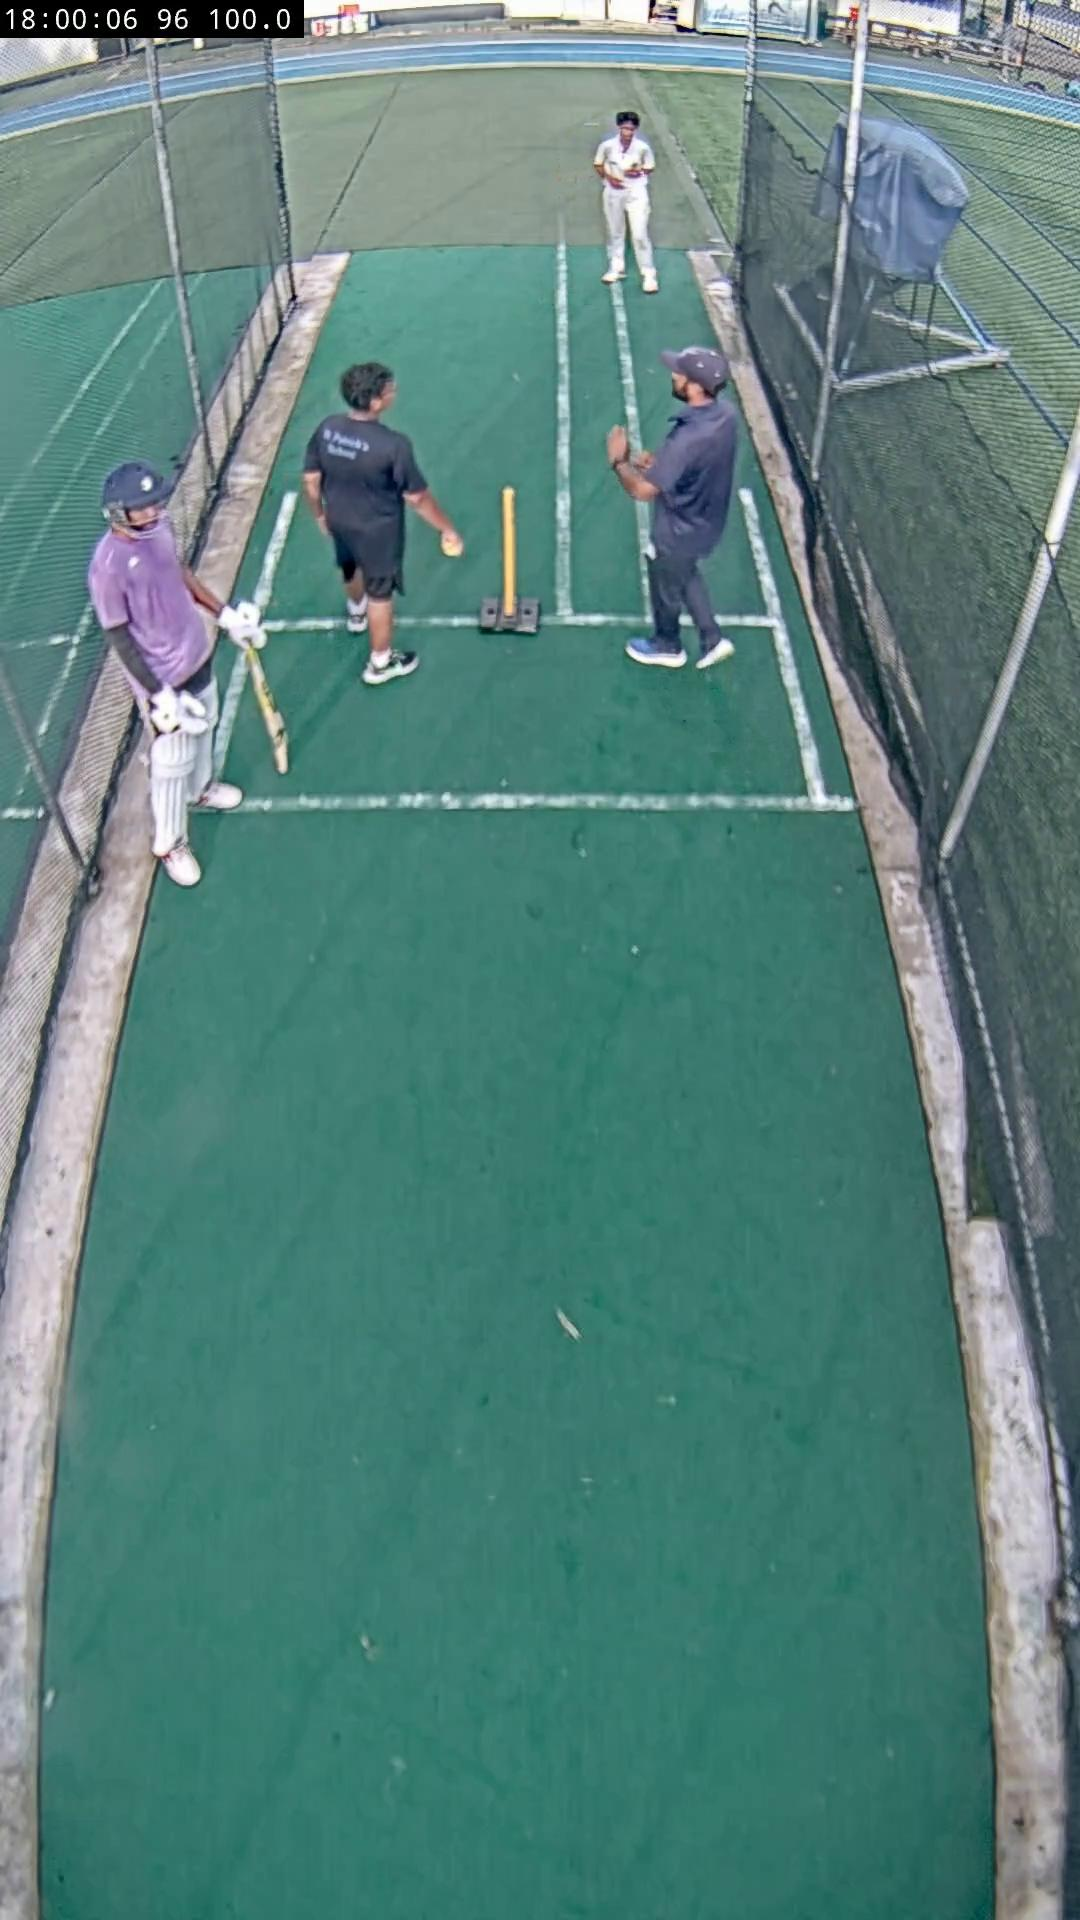ball: (443, 537, 465, 559)
stumps: (480, 488, 541, 634)
